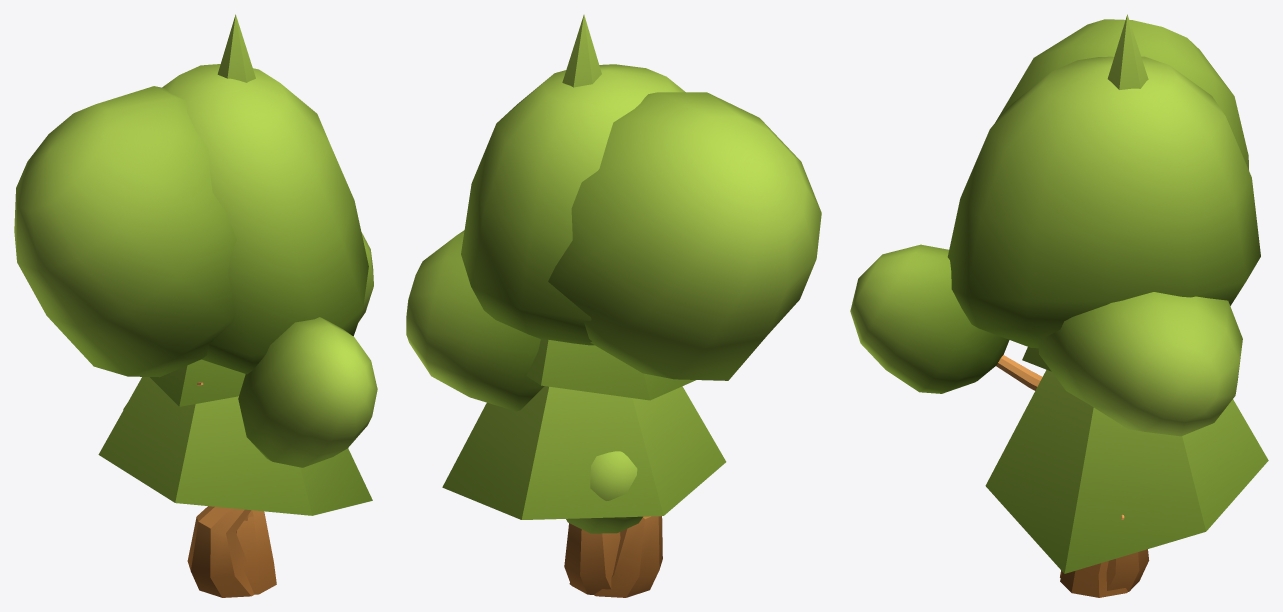
The model's file is TREES.fbx.
The picture shows the model from 3 angles, left to right: view 1: azimuth 30°, elevation 25°; view 2: azimuth 150°, elevation 25°; view 3: azimuth 270°, elevation 25°; orthographic projection. The views are drawn at different scales.
Visible parts, largest first — view 1: TREE, TREE1, TREE2, TREE4; view 2: TREE, TREE1, TREE2; view 3: TREE1, TREE, TREE2, TREE4.
Part boxes in pixels (left/top/right/bottom): TREE: left=14, top=86, right=377, bottom=597; TREE1: left=123, top=64, right=368, bottom=520; TREE2: left=98, top=14, right=372, bottom=516; TREE4: left=197, top=382, right=276, bottom=594; TREE: left=406, top=92, right=821, bottom=597; TREE1: left=461, top=64, right=685, bottom=594; TREE2: left=442, top=14, right=726, bottom=519; TREE1: left=947, top=56, right=1260, bottom=591; TREE: left=850, top=19, right=1248, bottom=578; TREE2: left=985, top=14, right=1268, bottom=573; TREE4: left=1060, top=514, right=1127, bottom=597.
Bounding box in the file's own units: 273 × 409 × 271.
